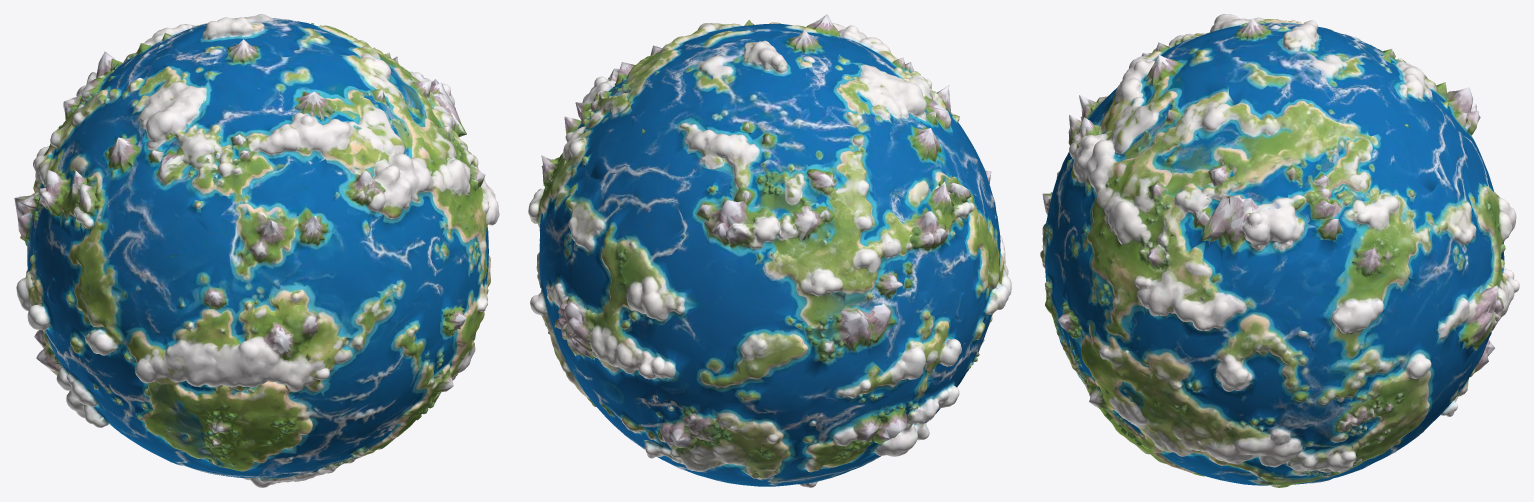
The model's file is whimsical-world.glb.
3 views of the same model, side by side, from view 1: azimuth 30°, elevation 25°; view 2: azimuth 150°, elevation 25°; view 3: azimuth 270°, elevation 25° (orthographic).
Parts seen in each view (by area): view 1: Orbit_Planet_Web; view 2: Orbit_Planet_Web; view 3: Orbit_Planet_Web.
Boxes of the visible parts, box(x1,y1,x2,y2) form: Orbit_Planet_Web: box(14, 14, 499, 487); Orbit_Planet_Web: box(528, 14, 1011, 487); Orbit_Planet_Web: box(1040, 14, 1519, 487).
Size of the model in its own units: 2 by 1.99 by 1.98.
1 material, 1 textured.
